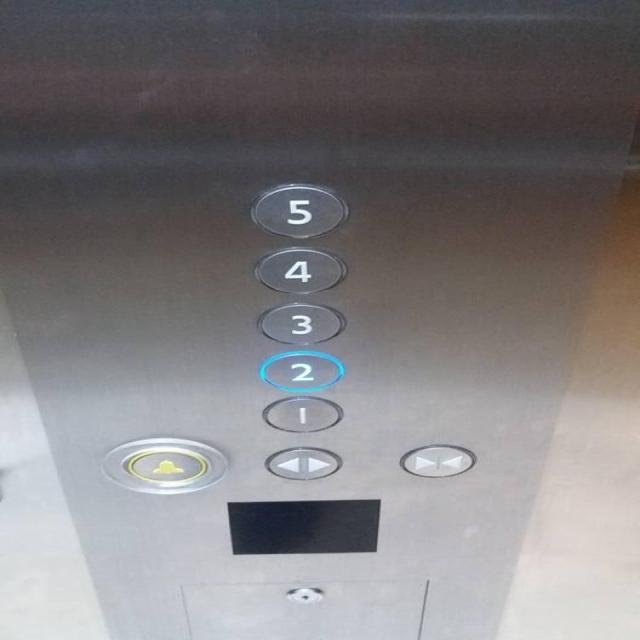1: (259, 395, 343, 431)
2: (258, 349, 344, 391)
3: (259, 301, 347, 344)
4: (253, 247, 347, 295)
5: (250, 183, 346, 238)
alarm: (98, 438, 228, 493)
close: (394, 442, 480, 478)
empty: (227, 498, 384, 555)
keyhole: (284, 585, 326, 604)
open: (261, 442, 343, 481)
